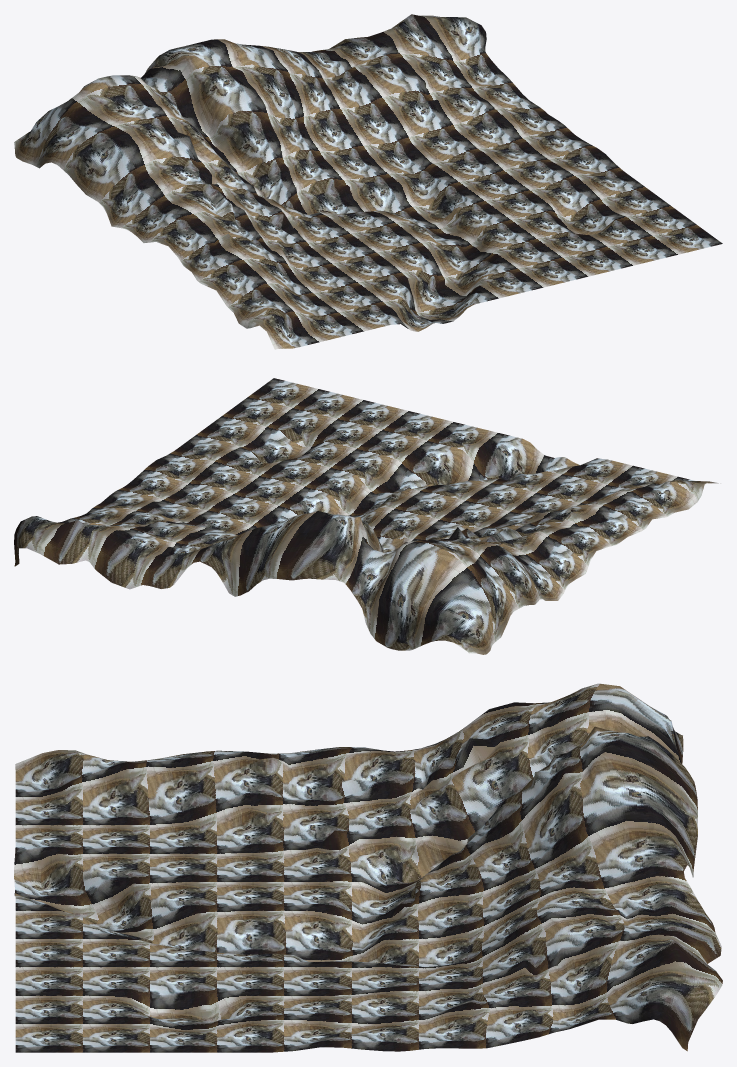
File: terrain.fbx
3 views of the same model, one above another, from view 1: azimuth 30°, elevation 25°; view 2: azimuth 150°, elevation 25°; view 3: azimuth 270°, elevation 25° (orthographic). The views are drawn at different scales.
Parts seen in each view (by area): view 1: pPlane1; view 2: pPlane1; view 3: pPlane1.
Part boxes in pixels (x1=…): pPlane1: x1=14, y1=14, x2=722, y2=349; pPlane1: x1=14, y1=378, x2=720, y2=654; pPlane1: x1=14, y1=683, x2=722, y2=1052.
Size of the model in its own units: 523 by 134 by 527.
